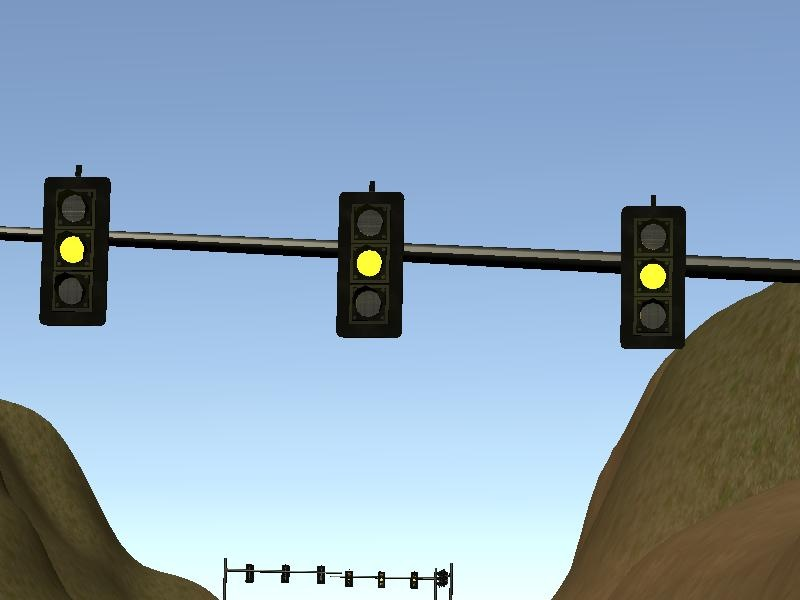yellow: (31, 160, 117, 337), (330, 176, 413, 346), (615, 193, 693, 355)
